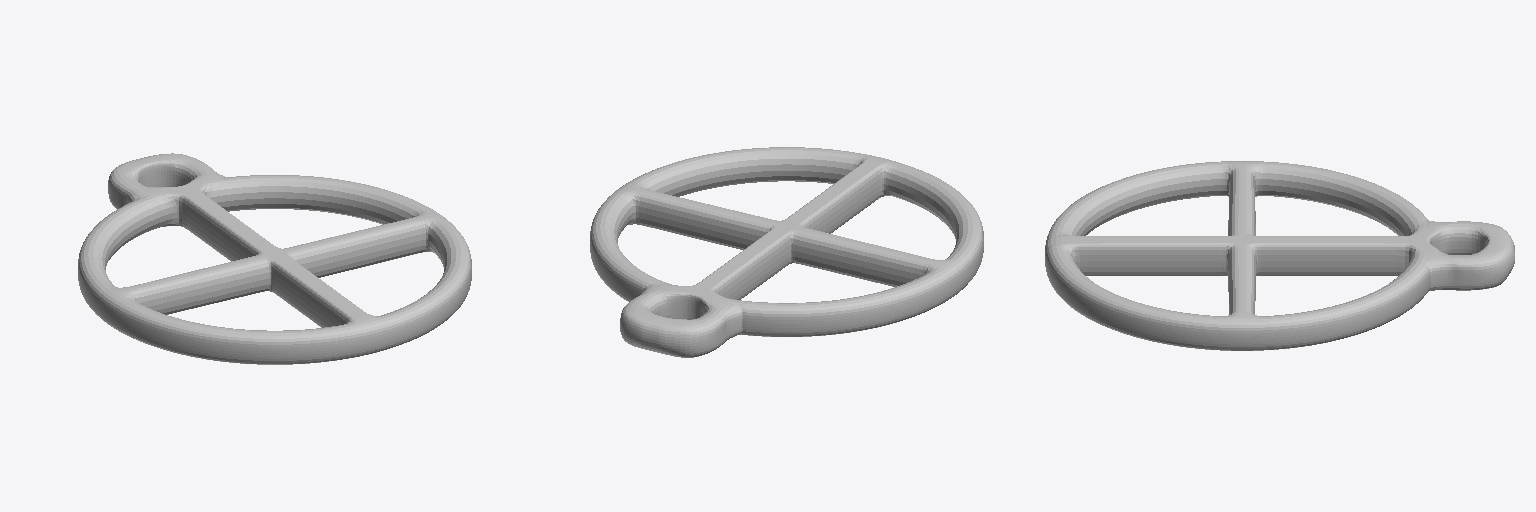
The model's file is Earth Sign.obj.
3 renders of one model, left to right at view 1: azimuth 30°, elevation 25°; view 2: azimuth 150°, elevation 25°; view 3: azimuth 270°, elevation 25°, orthographic.
Parts seen in each view (by area): view 1: earth_sign_Circle.002; view 2: earth_sign_Circle.002; view 3: earth_sign_Circle.002.
Boxes of the visible parts, x1=… form: earth_sign_Circle.002: x1=78, y1=153, x2=471, y2=364; earth_sign_Circle.002: x1=590, y1=147, x2=983, y2=357; earth_sign_Circle.002: x1=1045, y1=161, x2=1514, y2=350.
Bounding box in the file's own units: 0.03 × 0.0027 × 0.0358.